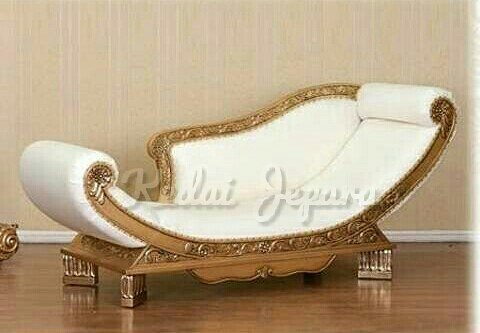Carving Chair: (21, 88, 453, 290)
